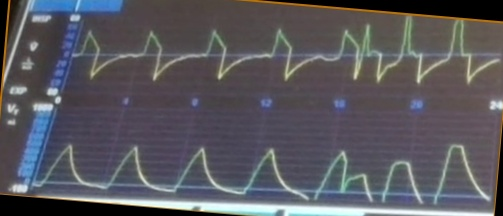Double_Triggering Flow: (81, 17, 498, 87)
Double_Triggering Volume: (69, 139, 490, 203)
